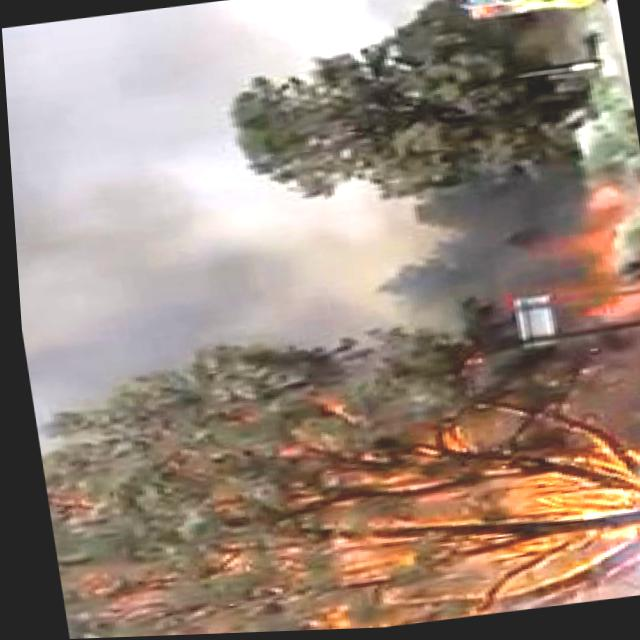fire: (197, 376, 640, 635), (518, 156, 640, 340)
smoke: (2, 37, 171, 426)
